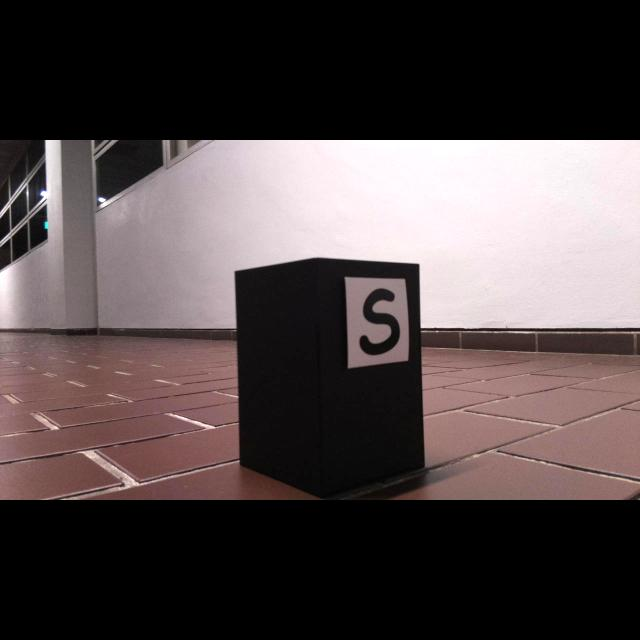S: (358, 289, 400, 356)
